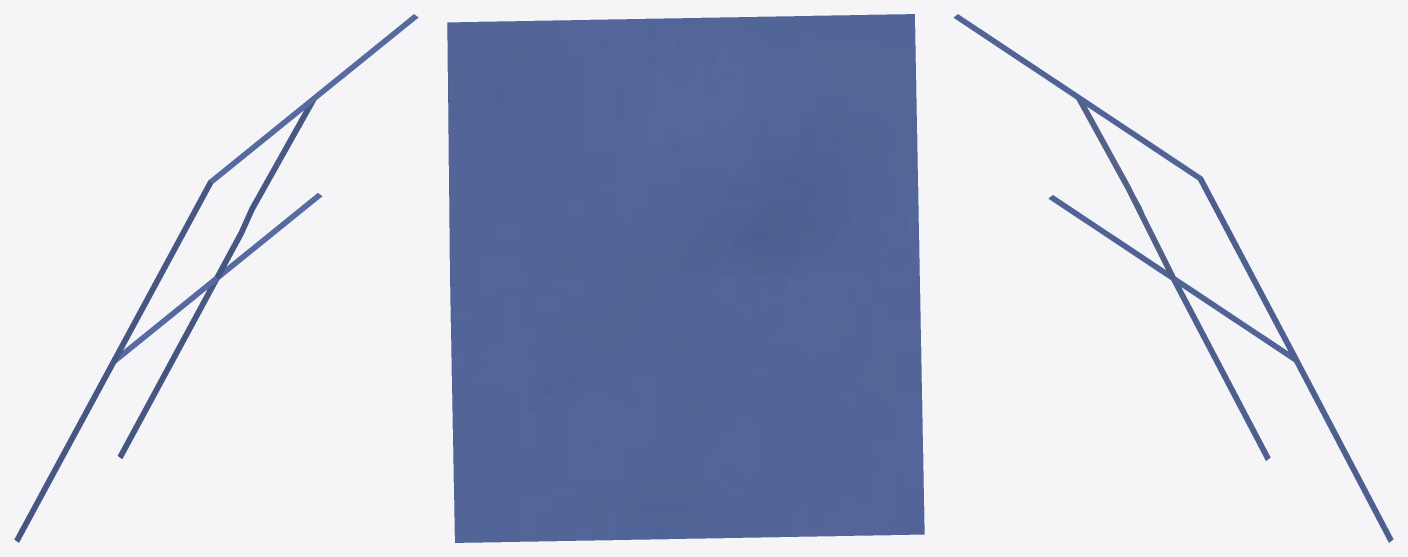
The picture shows the model from 3 angles, left to right: view 1: azimuth 30°, elevation 25°; view 2: azimuth 150°, elevation 25°; view 3: azimuth 270°, elevation 25°; orthographic projection. The views are drawn at different scales.
Bounding box in the file's own units: 19639 × 17686 × 16998.
1 material, 1 textured.
